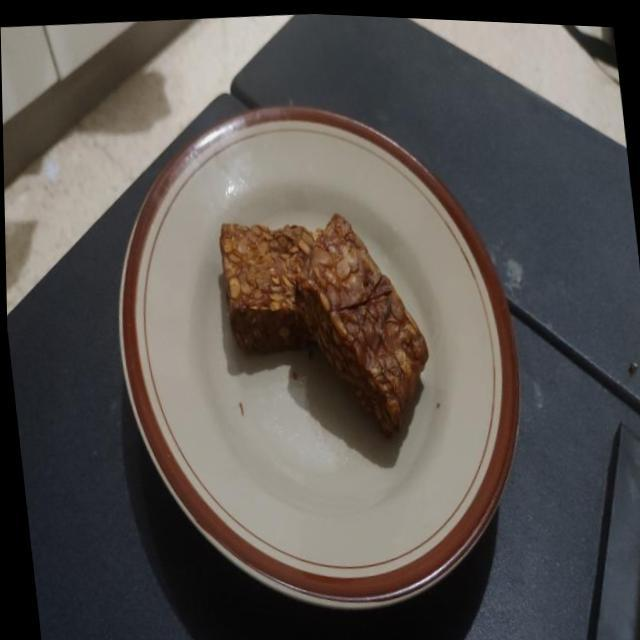tempe_goreng: (296, 213, 429, 438), (218, 223, 314, 359)
